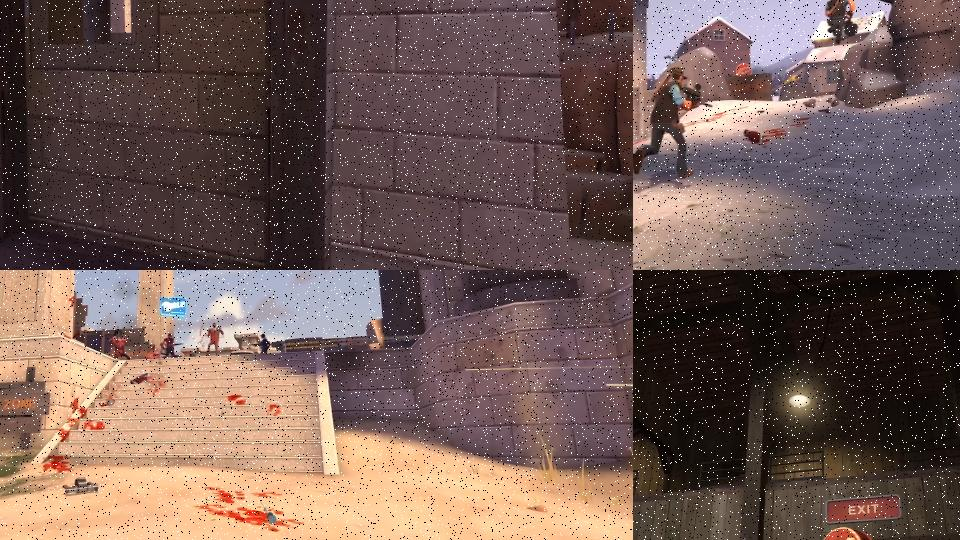Enemy: (633, 66, 713, 179), (824, 0, 858, 42), (108, 332, 131, 361), (206, 322, 224, 356), (251, 333, 272, 354), (162, 333, 176, 357)
